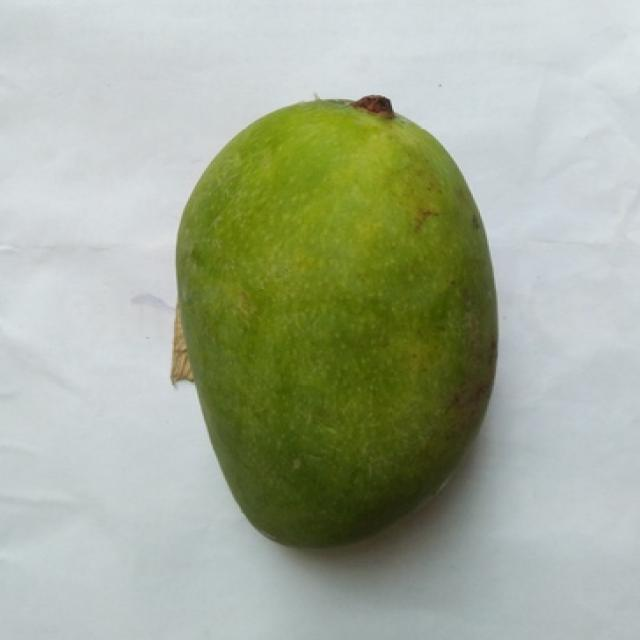Mango: (172, 98, 496, 548)
